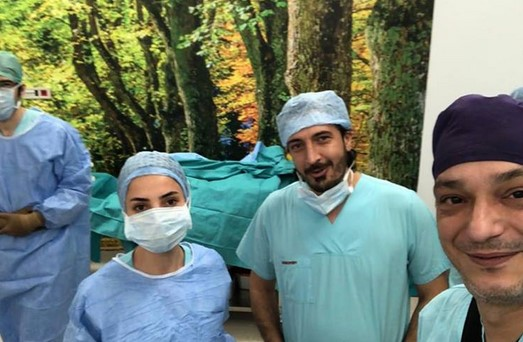face_no_mask: (432, 141, 523, 298)
face_with_mask: (282, 95, 354, 218), (119, 154, 196, 254), (1, 50, 25, 123)
